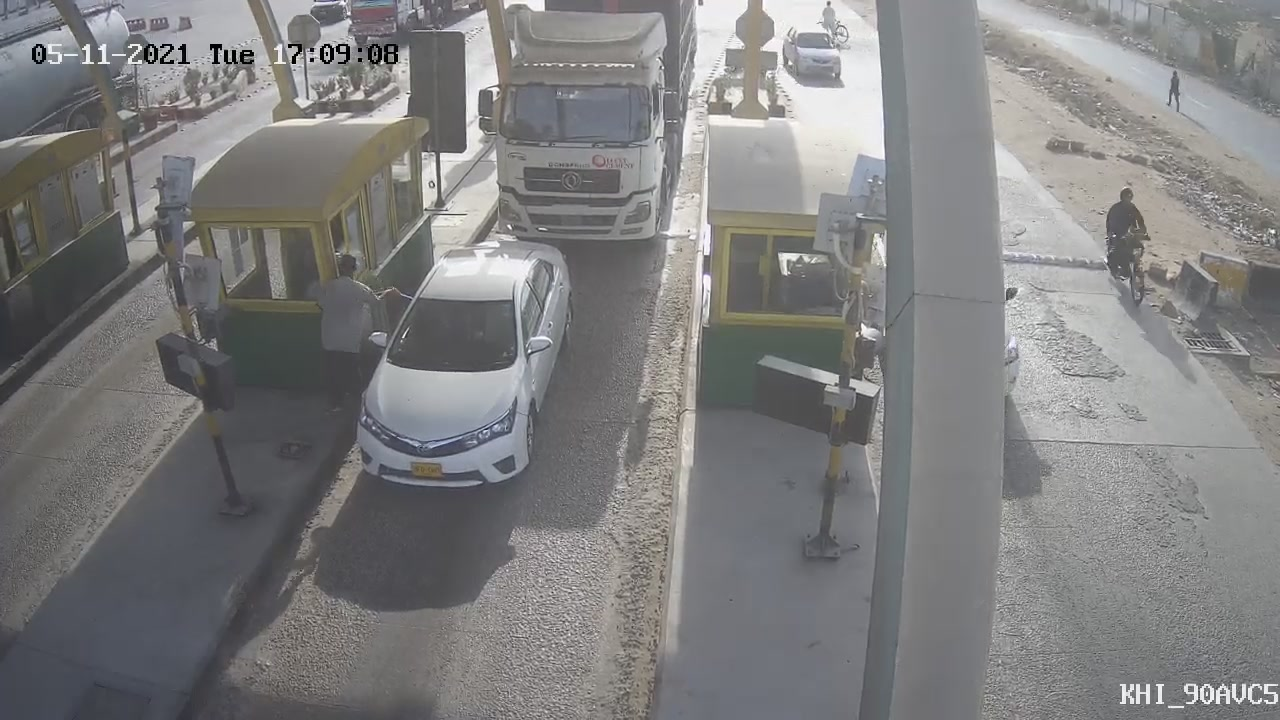F1: (331, 221, 595, 504)
